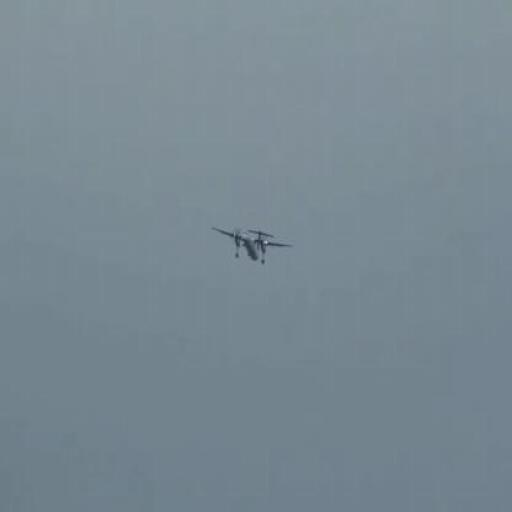aircraft: (212, 225, 294, 266)
